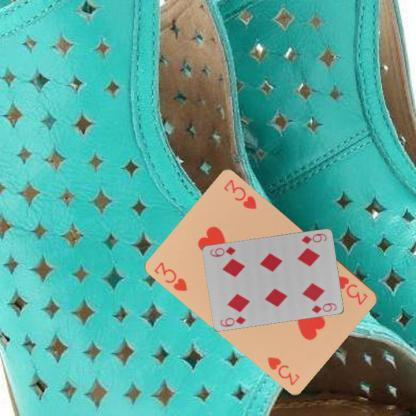3h: (152, 259, 189, 293), (334, 274, 370, 308)
6d: (218, 313, 247, 328), (299, 231, 328, 245)
